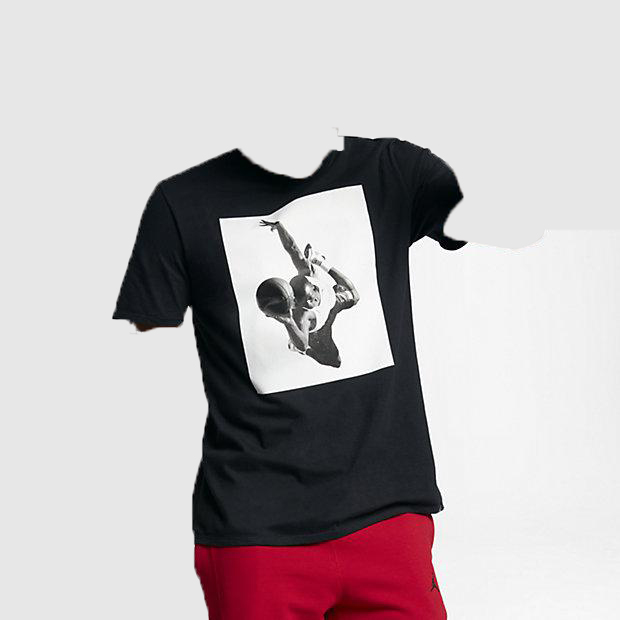teeshirt: (103, 134, 479, 544)
